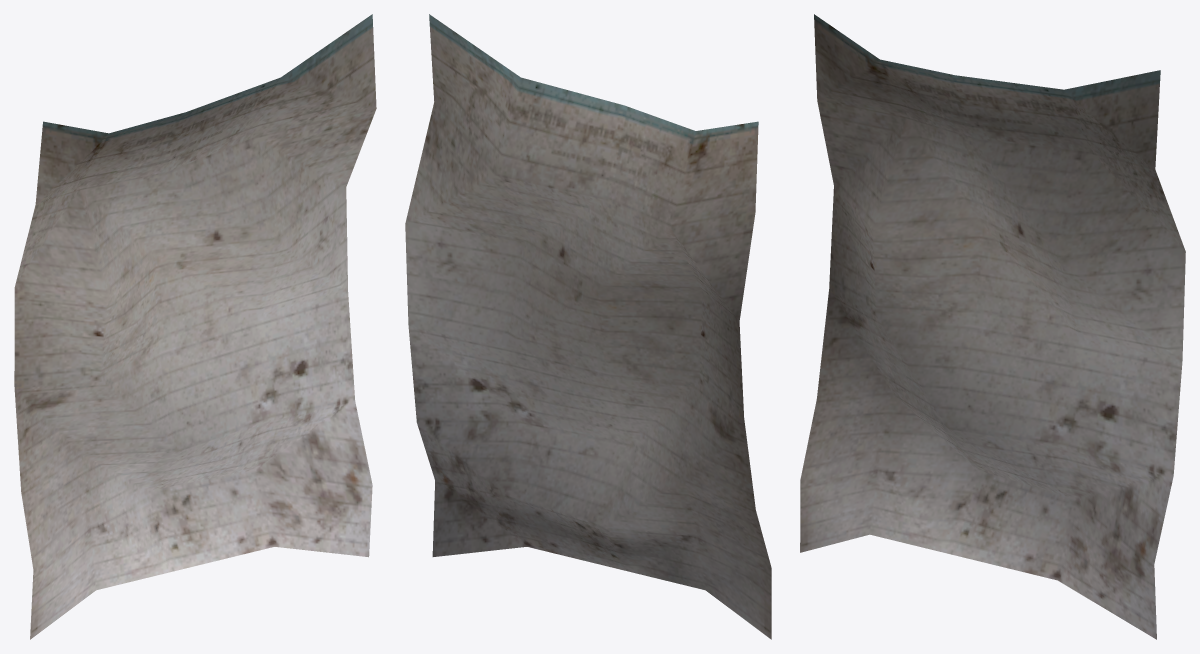
File: fx_decal_burnt_paper3_LOD0.obj
The picture shows the model from 3 angles, left to right: view 1: azimuth 30°, elevation 25°; view 2: azimuth 150°, elevation 25°; view 3: azimuth 330°, elevation 25°; orthographic projection. The views are drawn at different scales.
Parts seen in each view (by area): view 1: mtl_fx_decal_burnt_paper; view 2: mtl_fx_decal_burnt_paper; view 3: mtl_fx_decal_burnt_paper.
Boxes of the visible parts, left/top/right/bottom form: mtl_fx_decal_burnt_paper: left=14, top=14, right=376, bottom=639; mtl_fx_decal_burnt_paper: left=405, top=14, right=771, bottom=639; mtl_fx_decal_burnt_paper: left=800, top=14, right=1185, bottom=639.
Bounding box in the file's own units: 16.8 × 25.42 × 2.54.
